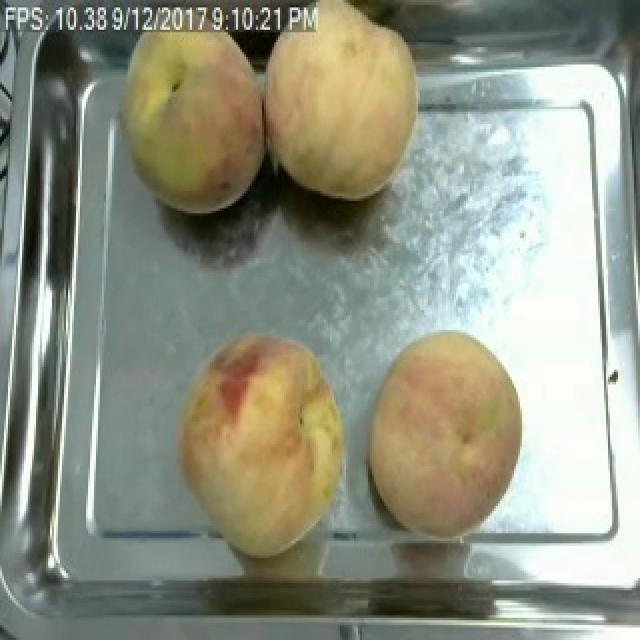Fruit: (170, 325, 356, 563), (358, 325, 534, 543), (266, 2, 430, 211), (104, 15, 266, 226)
